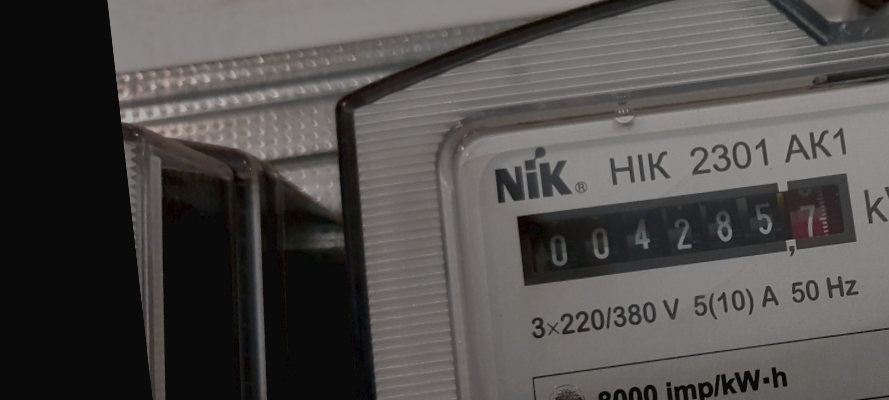0: (587, 222, 613, 261), (545, 230, 570, 267)
2: (670, 213, 694, 251)
4: (630, 214, 651, 251)
5: (750, 198, 775, 236)
7: (796, 200, 819, 239)
8: (710, 205, 735, 244)
screen: (499, 159, 873, 299)
